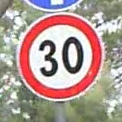limite 30: (17, 14, 102, 102)
